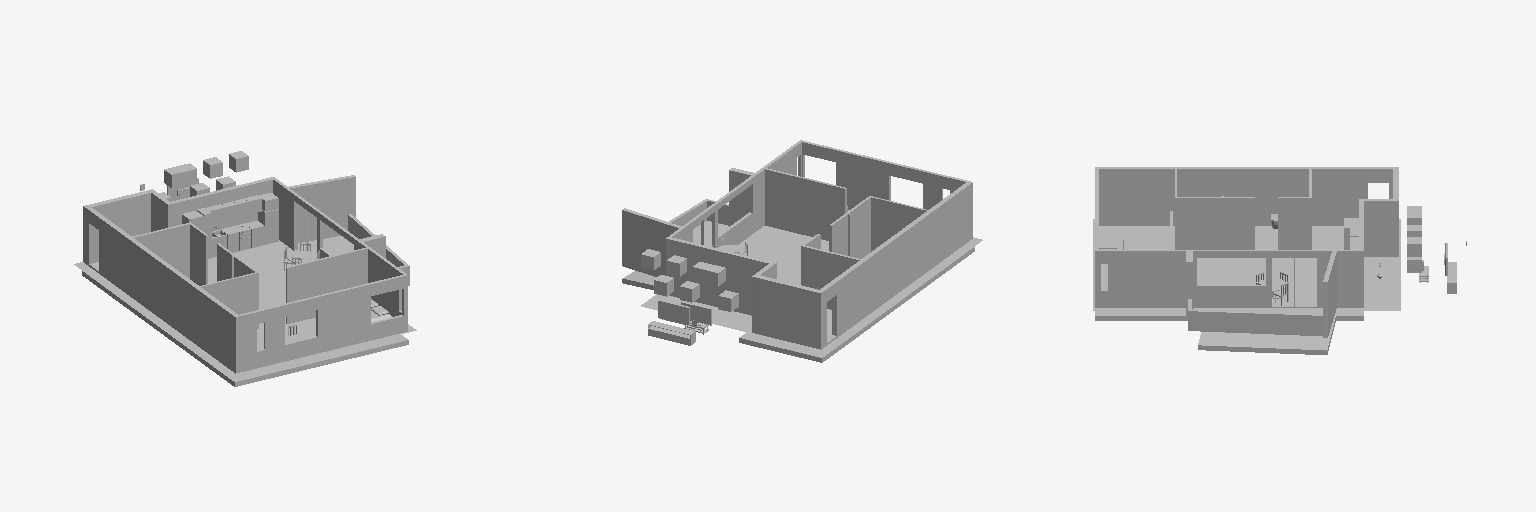
The model's file is OttoBrandt_2019-01-15_4.obj.
3 renders of one model, left to right at view 1: azimuth 30°, elevation 25°; view 2: azimuth 150°, elevation 25°; view 3: azimuth 270°, elevation 25°, orthographic.
Parts seen in each view (by area): view 1: wall_outer_Cube, wall_internal_Cube.013, Floor_Plane, roof_Cube.002, kitchen05.001_Cube.014, kitchen07_Cube.005; view 2: wall_outer_Cube, wall_internal_Cube.013, Floor_Plane, roof_Cube.002, walltvbench_Cube.028, wall_tv_Cube.027, bedroom_desk.001_Cube.016; view 3: wall_outer_Cube, Floor_Plane, wall_internal_Cube.013, roof_Cube.002.
Boxes of the visible parts, box(x1,y1,x2,y2) form: wall_outer_Cube: box(83, 175, 409, 373); wall_internal_Cube.013: box(132, 222, 367, 328); Floor_Plane: box(74, 236, 416, 376); roof_Cube.002: box(82, 271, 408, 386); kitchen05.001_Cube.014: box(205, 195, 261, 223); kitchen07_Cube.005: box(258, 209, 278, 244); wall_outer_Cube: box(622, 140, 972, 349); wall_internal_Cube.013: box(764, 168, 927, 309); Floor_Plane: box(641, 210, 982, 351); roof_Cube.002: box(622, 247, 974, 362); walltvbench_Cube.028: box(648, 321, 695, 345); wall_tv_Cube.027: box(658, 300, 689, 325); bedroom_desk.001_Cube.016: box(681, 302, 711, 334); wall_outer_Cube: box(1095, 167, 1398, 337); Floor_Plane: box(1093, 219, 1400, 313); wall_internal_Cube.013: box(1170, 169, 1311, 250); roof_Cube.002: box(1095, 311, 1363, 354).
Size of the model in its own units: 11.35 by 3.53 by 15.05.